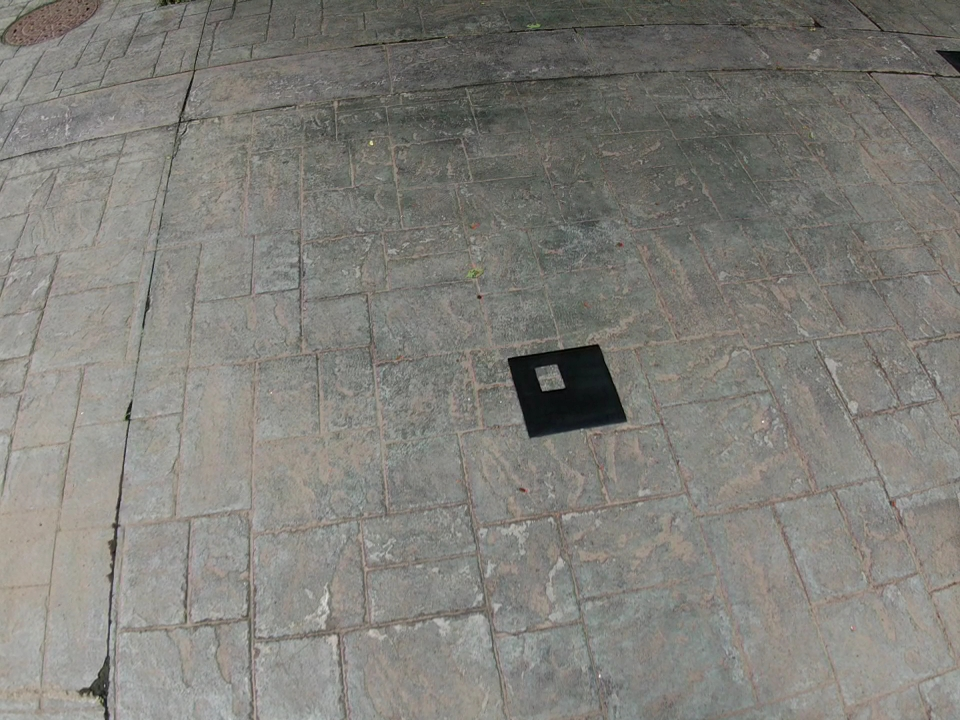qrcode: (507, 344, 626, 438)
